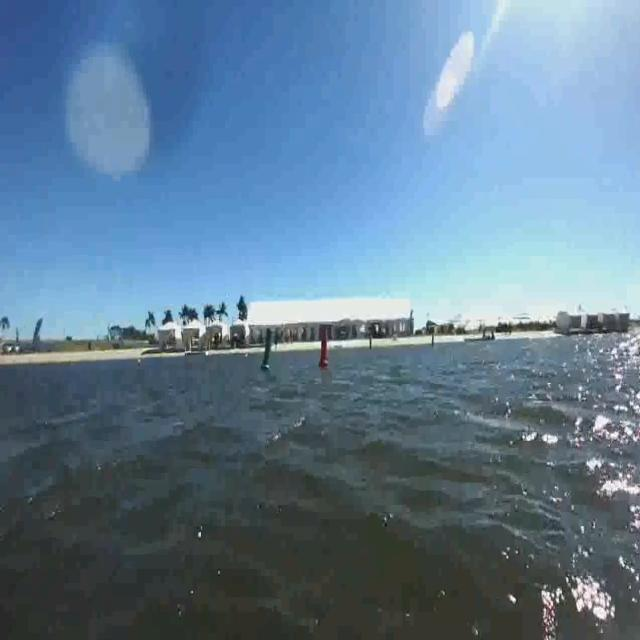green-column-buoy: (262, 328, 278, 372)
red-column-buoy: (319, 327, 334, 370)
